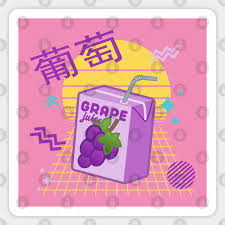Juice_Box: (72, 80, 155, 185)
